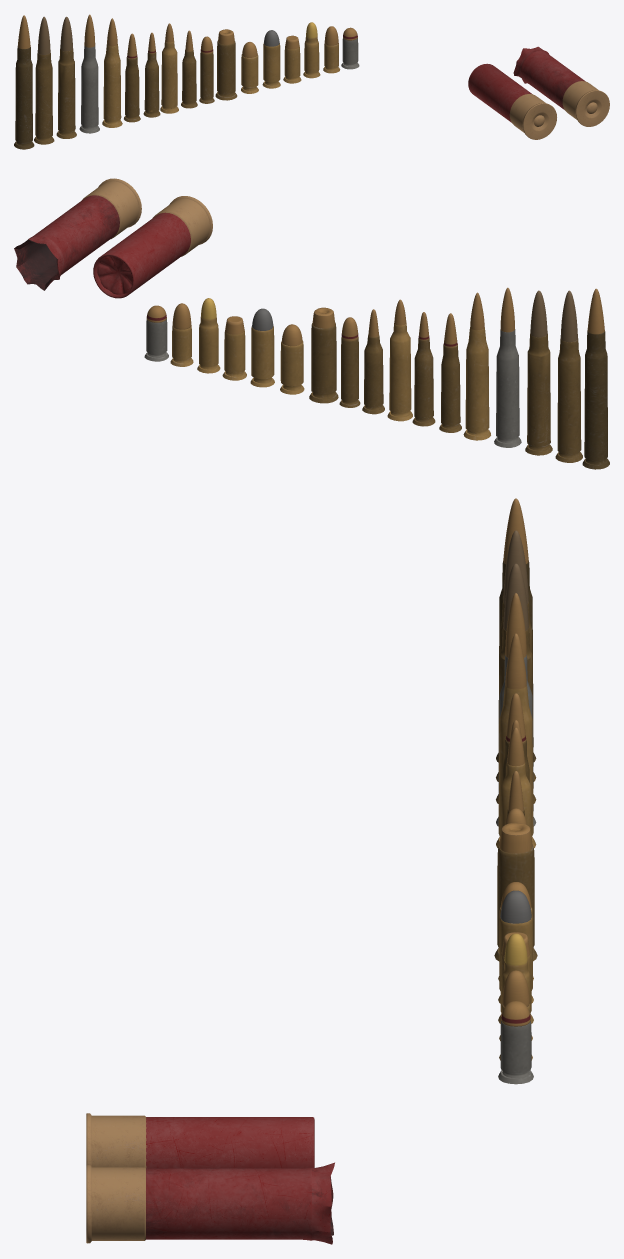
Rendered from ammo.glb.
The picture shows the model from 3 angles, top to bottom: view 1: azimuth 30°, elevation 25°; view 2: azimuth 150°, elevation 25°; view 3: azimuth 270°, elevation 25°; orthographic projection. The views are drawn at different scales.
Parts seen in each view (by area): view 1: Circle_008, Circle, Cube_012, Cube_020, Cube_022, Cube_024, Cube_010, Cube_016, Cube_014, Cube_028, Cube_026, Cube_008 (+16 smaller); view 2: Circle_008, Circle, Cube_012, Cube_020, Cube_022, Cube_024, Cube_010, Cube_016, Cube_014, Cube_028, Cube_026, Cube_008 (+15 smaller); view 3: Circle_008, Circle, Cube_004, Cube_014, Cube_010, Cube_016.
Boxes of the visible parts, left/top/right/bottom form: Circle_008: left=513, top=46, right=609, bottom=126; Circle: left=468, top=63, right=556, bottom=139; Cube_012: left=14, top=47, right=34, bottom=149; Cube_020: left=34, top=53, right=54, bottom=144; Cube_022: left=56, top=48, right=76, bottom=138; Cube_024: left=79, top=46, right=99, bottom=133; Cube_010: left=102, top=44, right=122, bottom=127; Cube_016: left=160, top=41, right=178, bottom=113; Cube_014: left=215, top=41, right=237, bottom=100; Cube_028: left=124, top=57, right=140, bottom=122; Cube_026: left=143, top=52, right=160, bottom=117; Cube_008: left=181, top=50, right=197, bottom=108; Circle_008: left=14, top=178, right=141, bottom=290; Circle: left=93, top=196, right=212, bottom=298; Cube_012: left=582, top=330, right=609, bottom=469; Cube_020: left=555, top=338, right=582, bottom=462; Cube_022: left=525, top=334, right=552, bottom=455; Cube_024: left=494, top=329, right=521, bottom=447; Cube_010: left=463, top=327, right=490, bottom=440; Cube_016: left=387, top=323, right=412, bottom=421; Cube_014: left=309, top=322, right=338, bottom=403; Cube_028: left=439, top=344, right=461, bottom=432; Cube_026: left=412, top=338, right=435, bottom=426; Cube_008: left=362, top=335, right=384, bottom=414; Circle_008: left=86, top=1162, right=334, bottom=1244; Circle: left=86, top=1113, right=314, bottom=1168; Cube_004: left=498, top=1021, right=533, bottom=1084; Cube_014: left=494, top=845, right=537, bottom=961; Cube_010: left=496, top=685, right=536, bottom=847; Cube_016: left=500, top=763, right=531, bottom=835.
Bounding box in the file's own units: 2.42 × 0.6928 × 0.9693.
3 materials, 3 textured.
